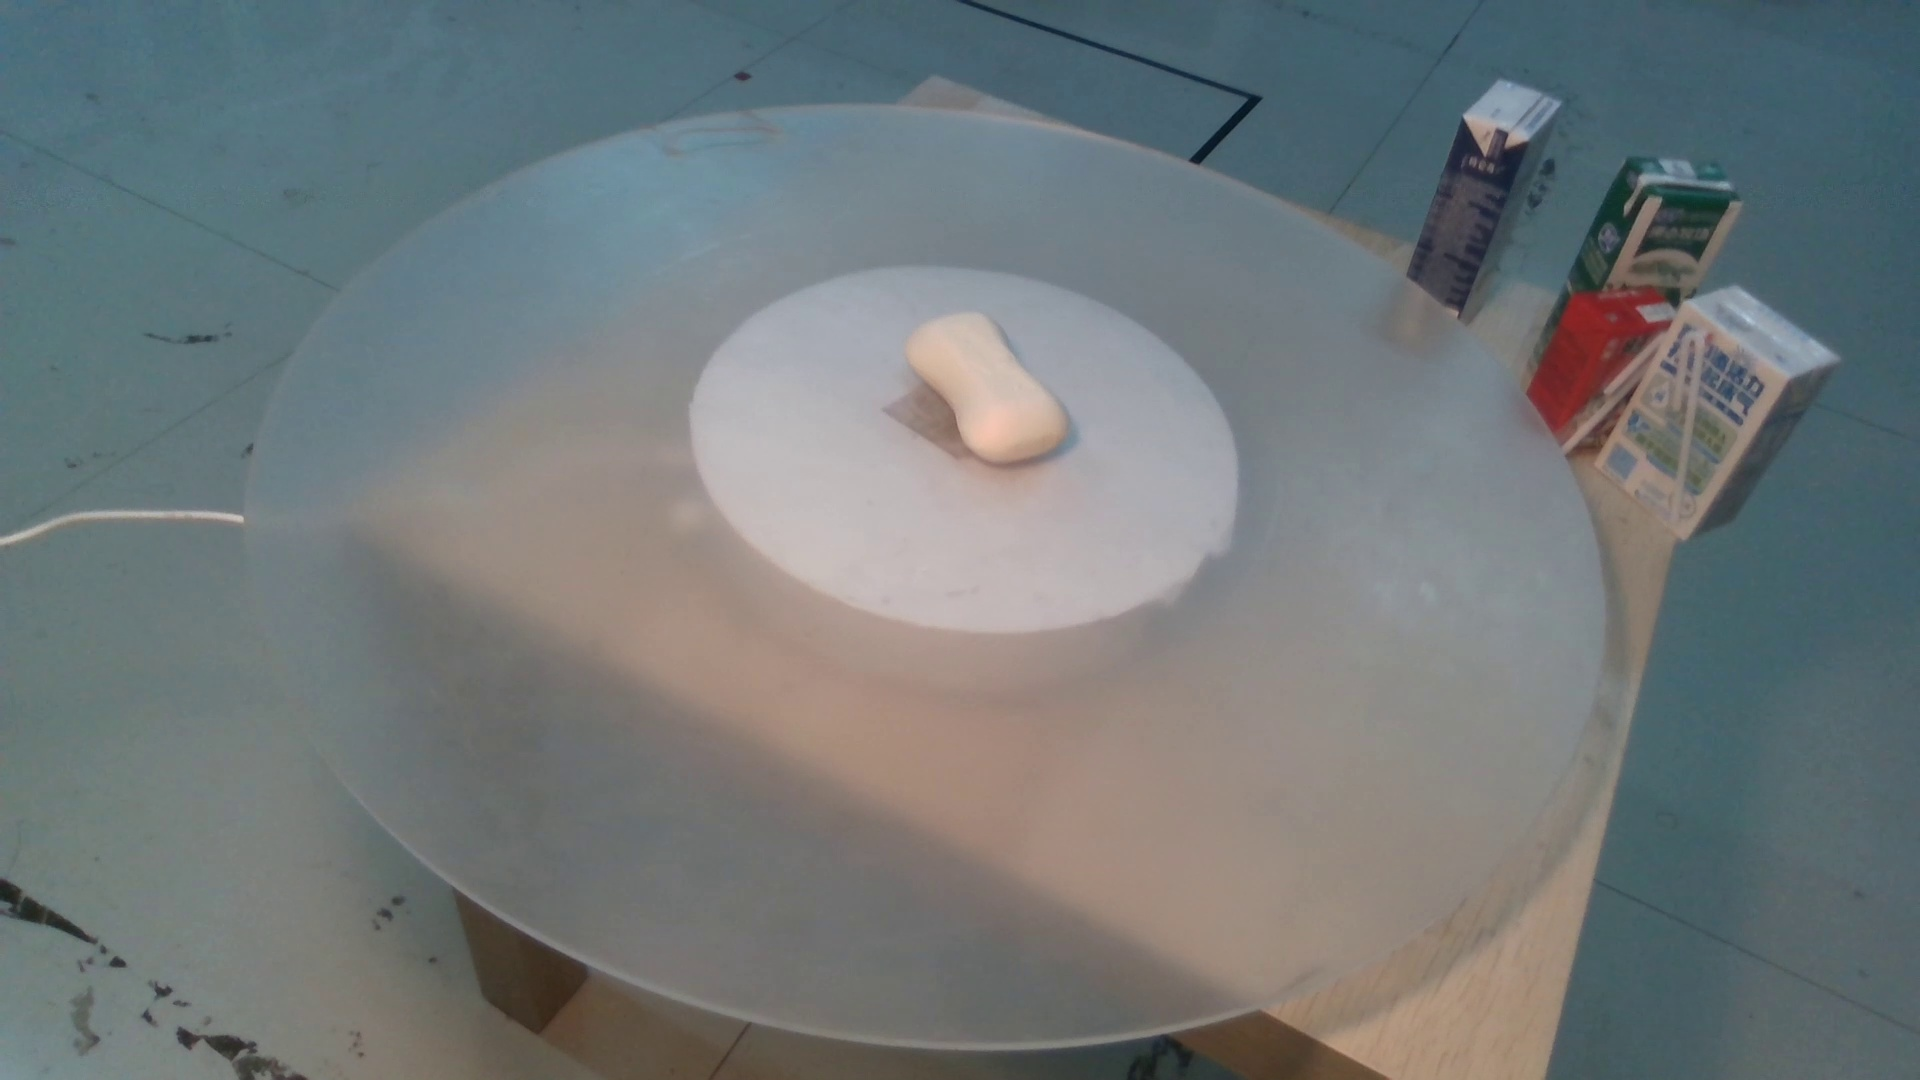CA003_1: (895, 305, 1083, 465)
